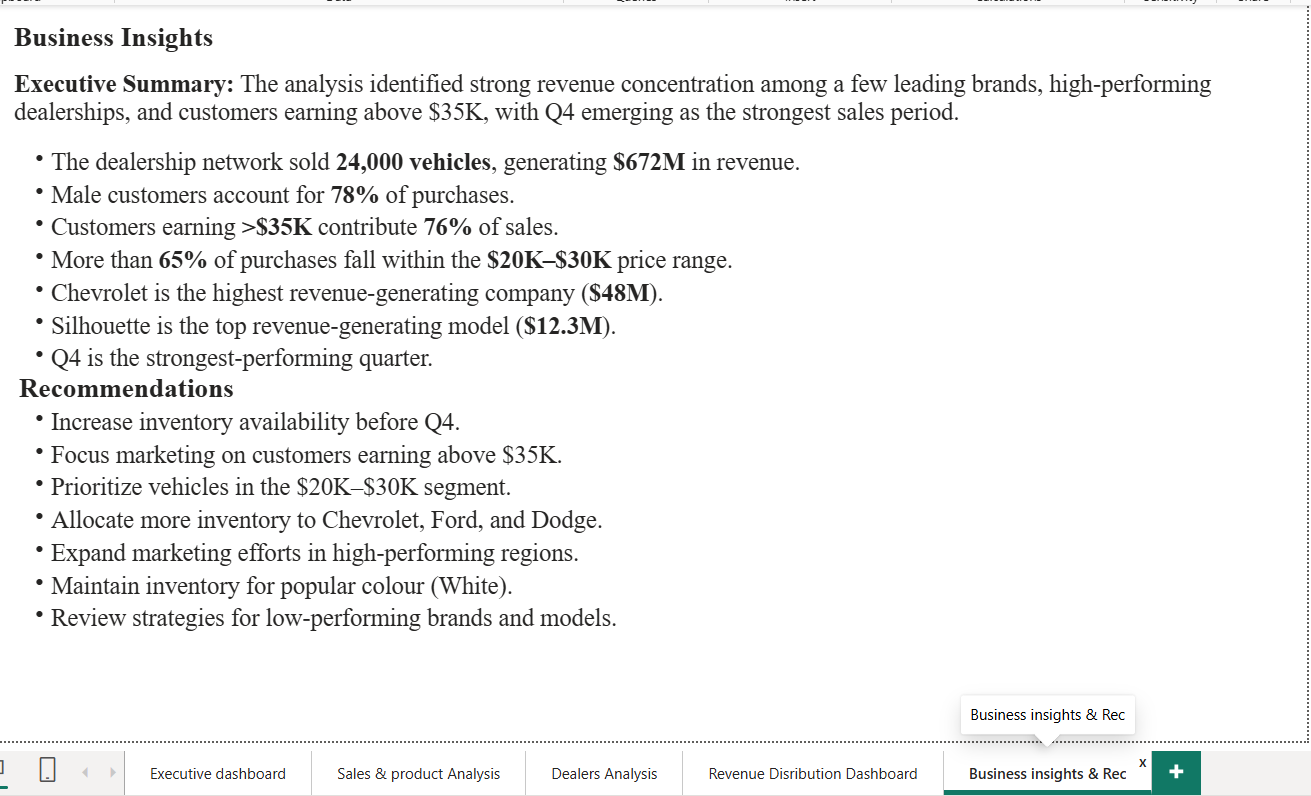

The dashboard page shown, as its layout file describes it:
{"tool":"powerbi","page":{"name":"Business insights & Rec","canvas":[1280,720],"ordinal":4},"visuals":[{"type":"textbox","box":[9.6,11,1270.7,709.4],"z":0}]}

Visuals, with their boxes on the page's 1280x720 design canvas (x1, y1, x2, y2). These are canvas units, not pixel positions in the 1311x796 screenshot, which may show the page scaled, cropped or inside an application window:
textbox: left=10, top=11, right=1280, bottom=720
